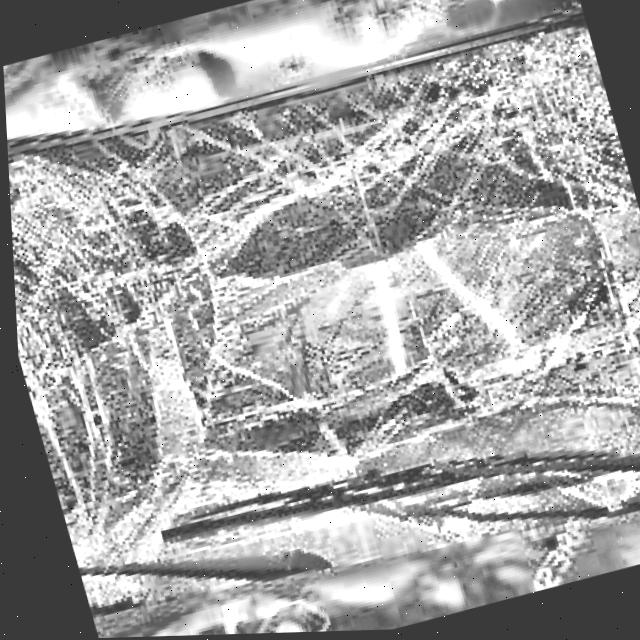glass_shatter: (1, 3, 640, 575)
